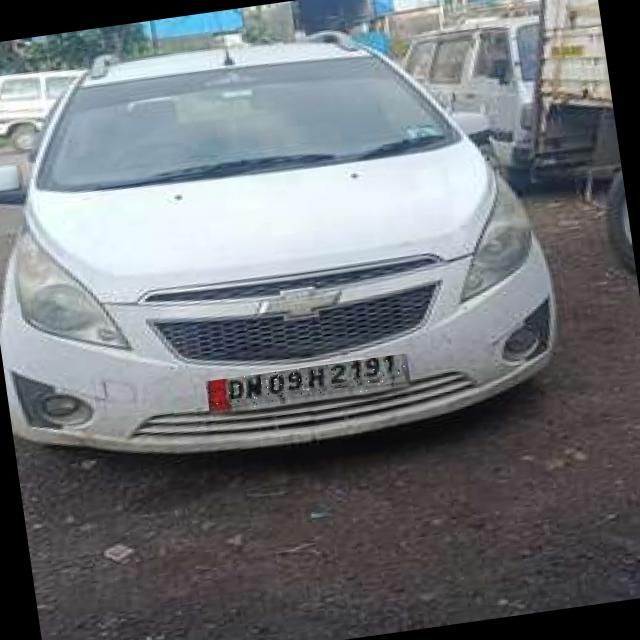Plate: (207, 355, 410, 415)
